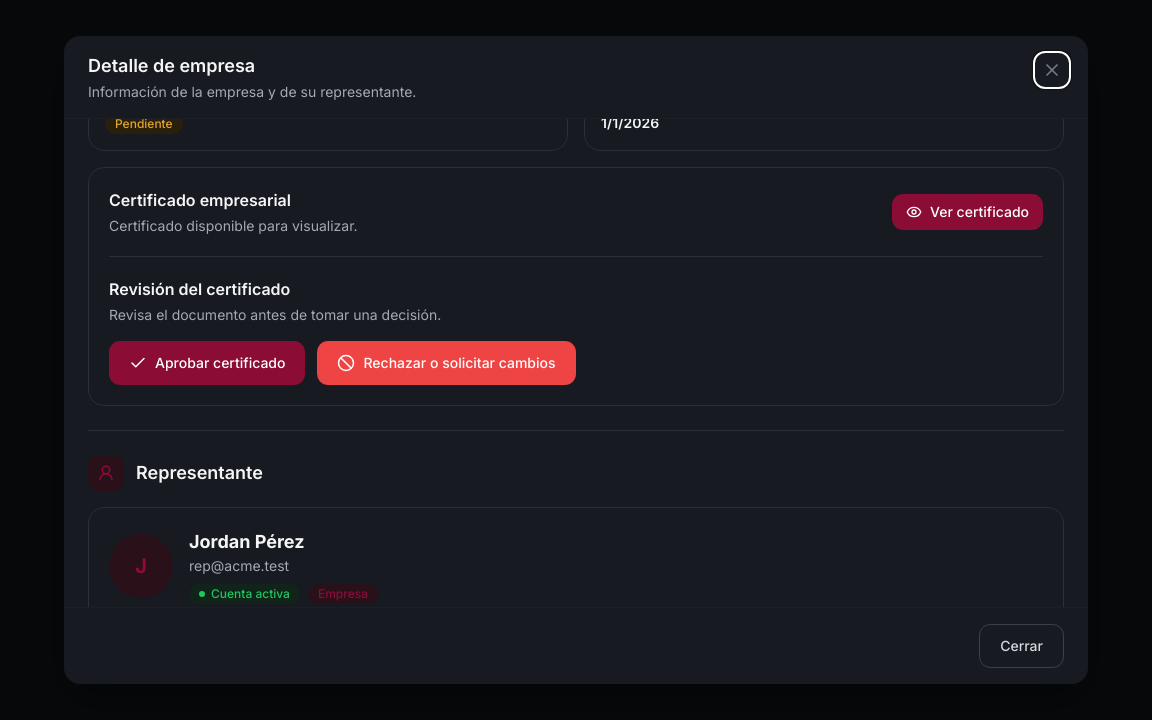
CompanyDetailModal — revisión de certificado › el botón abre el modal de revisión con las dos opciones
(page scrolled)
Click the button "Rechazar o solicitar cambios".
click(446, 363)  # box left=318, top=341, right=576, bottom=385
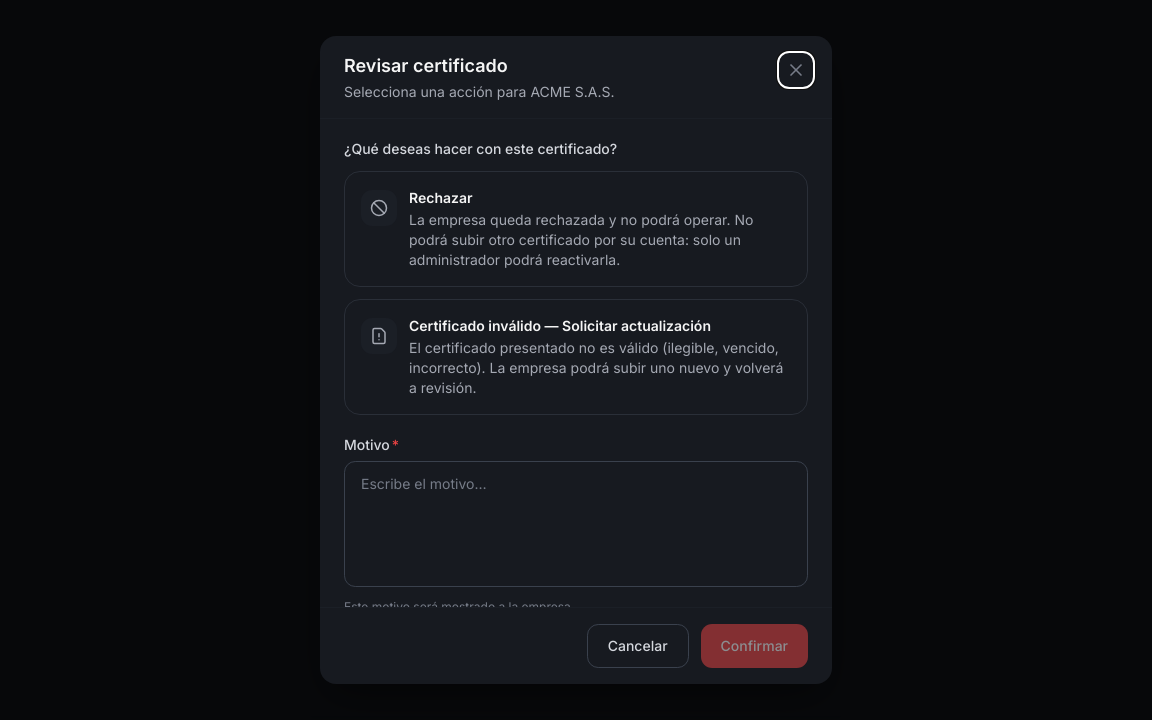
Result: the heading "Revisar certificado" is shown at left=344, top=55, right=508, bottom=76
Result: the radio button labelled "Rechazar" is shown at left=344, top=171, right=808, bottom=287
Result: the radio button labelled "Certificado inválido" is shown at left=344, top=299, right=808, bottom=415
